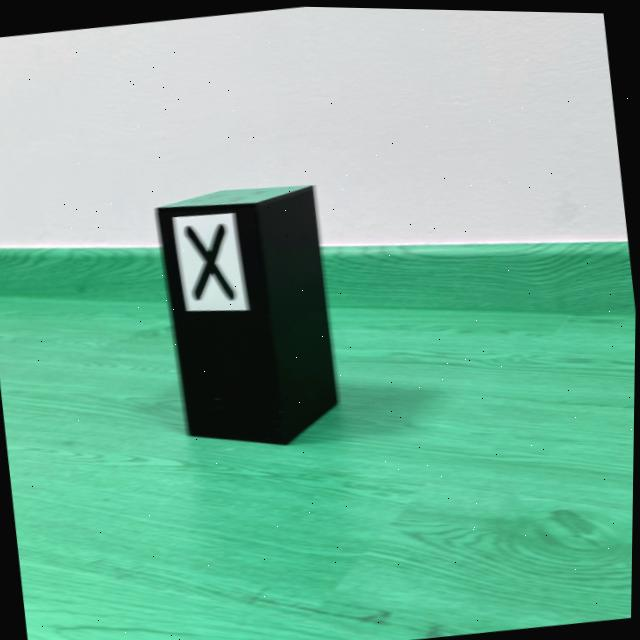X: (187, 223, 235, 298)
